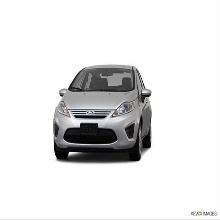no damage: (53, 65, 152, 162)
